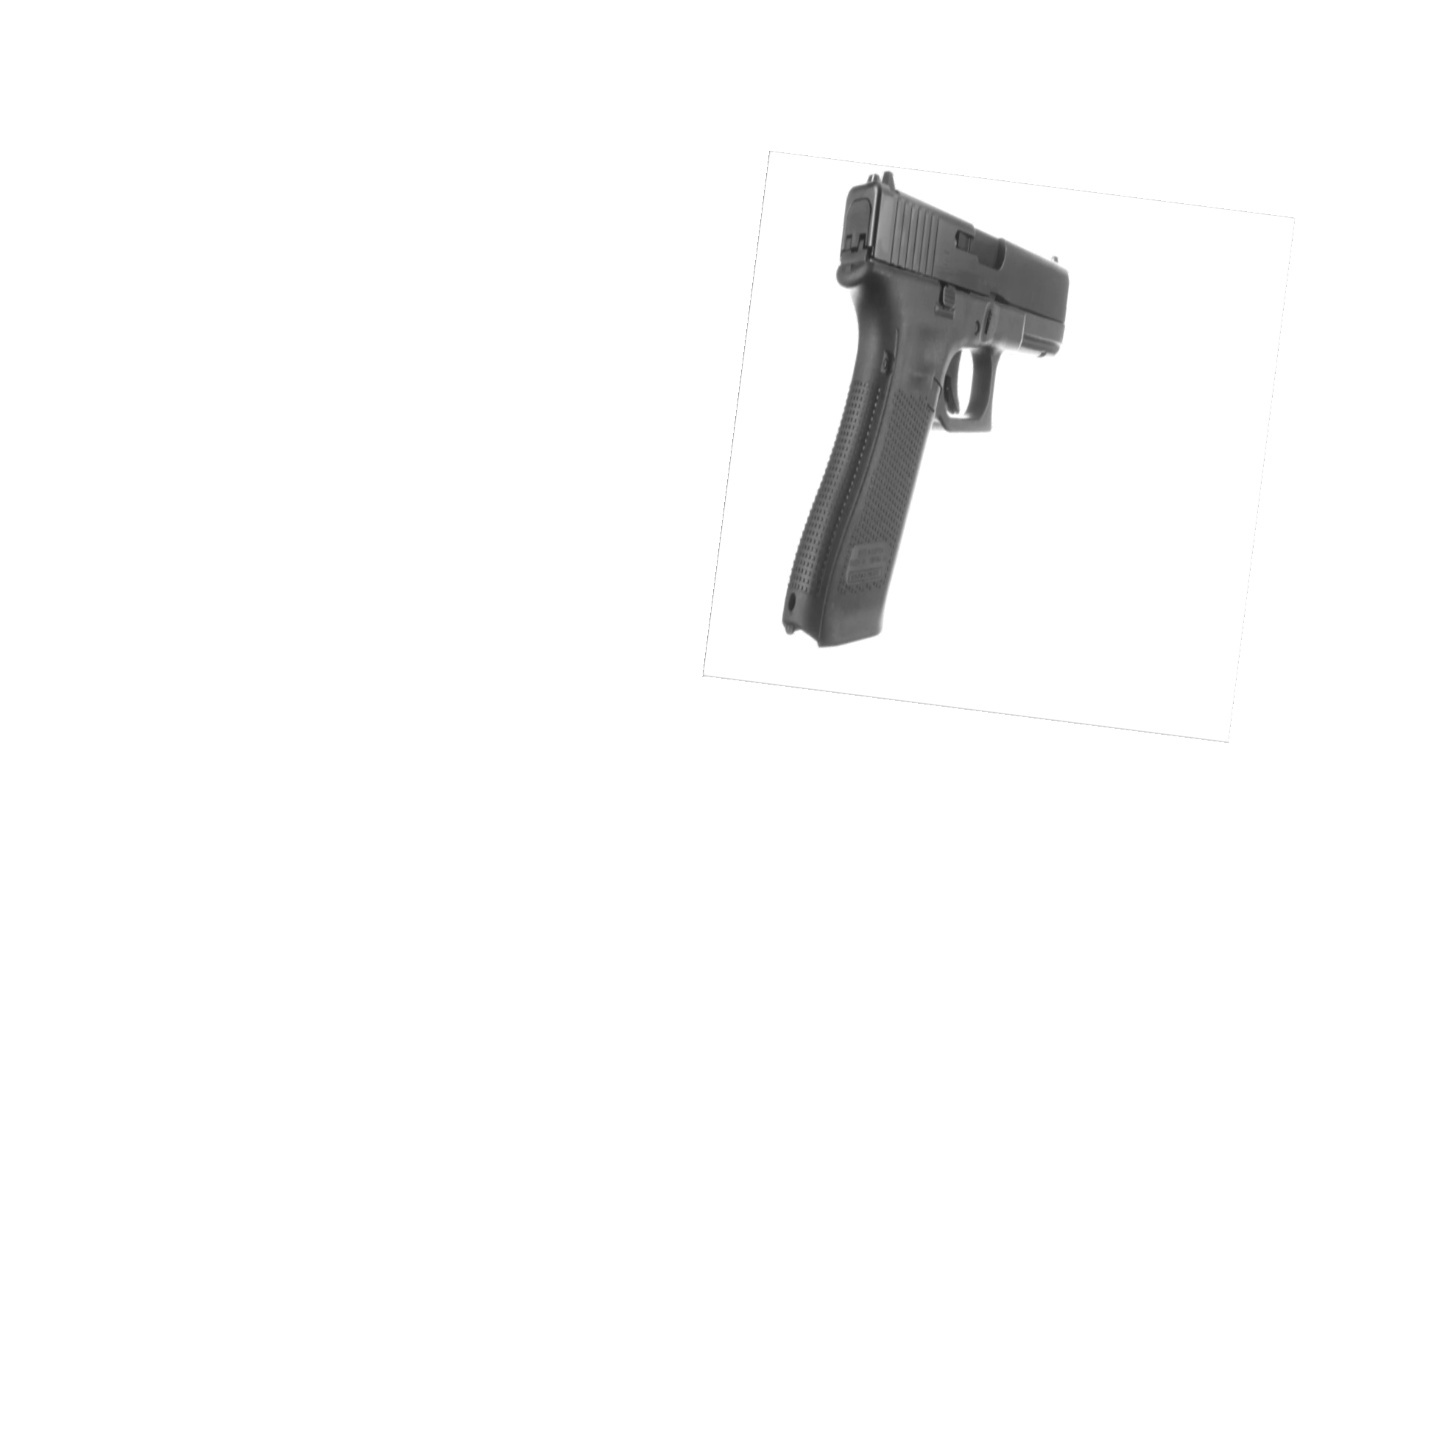gun: (770, 171, 1076, 653)
